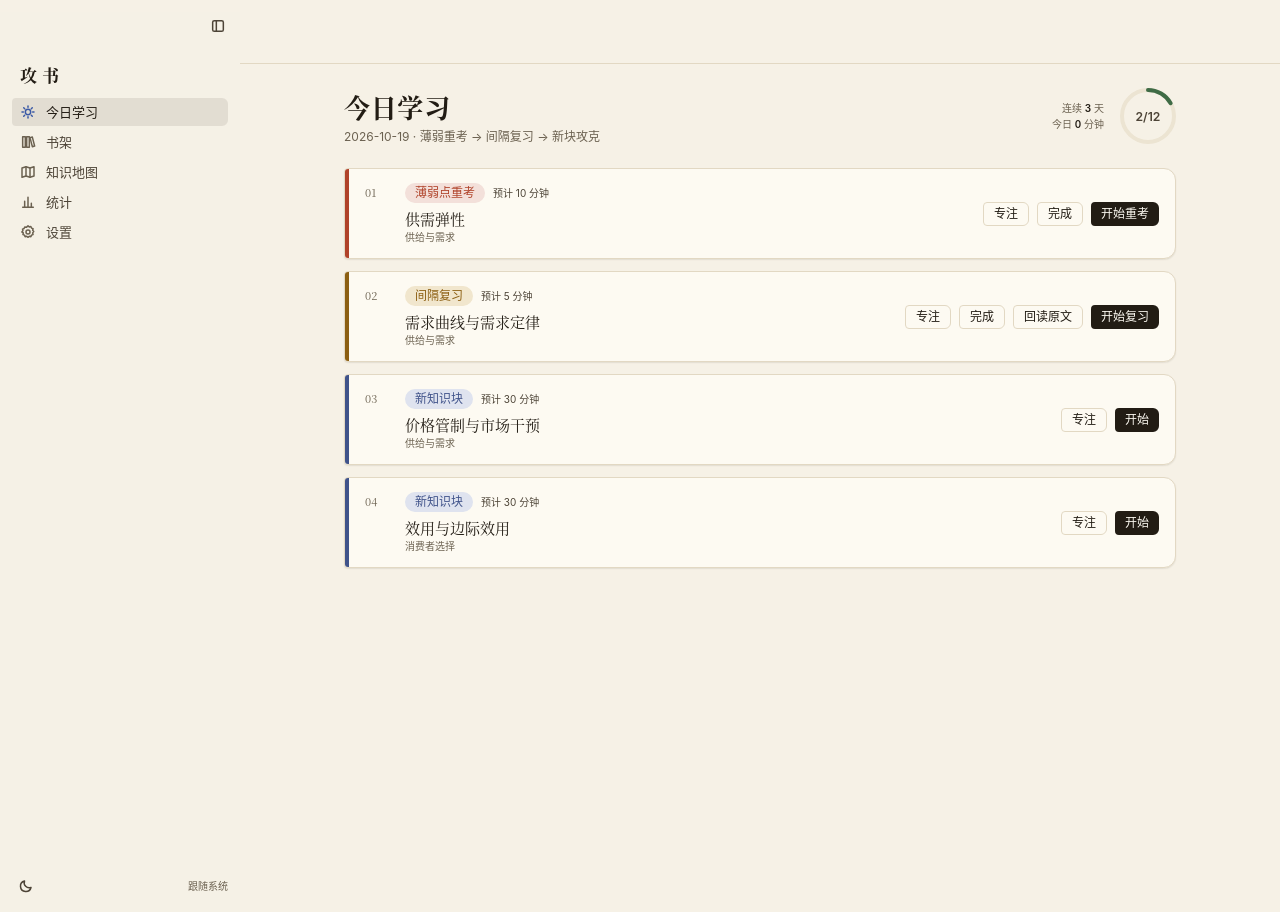
Test: App 外壳 › 点击"书架"进入书架页
Click the link "书架": (46, 142) [20, 134, 72, 150]
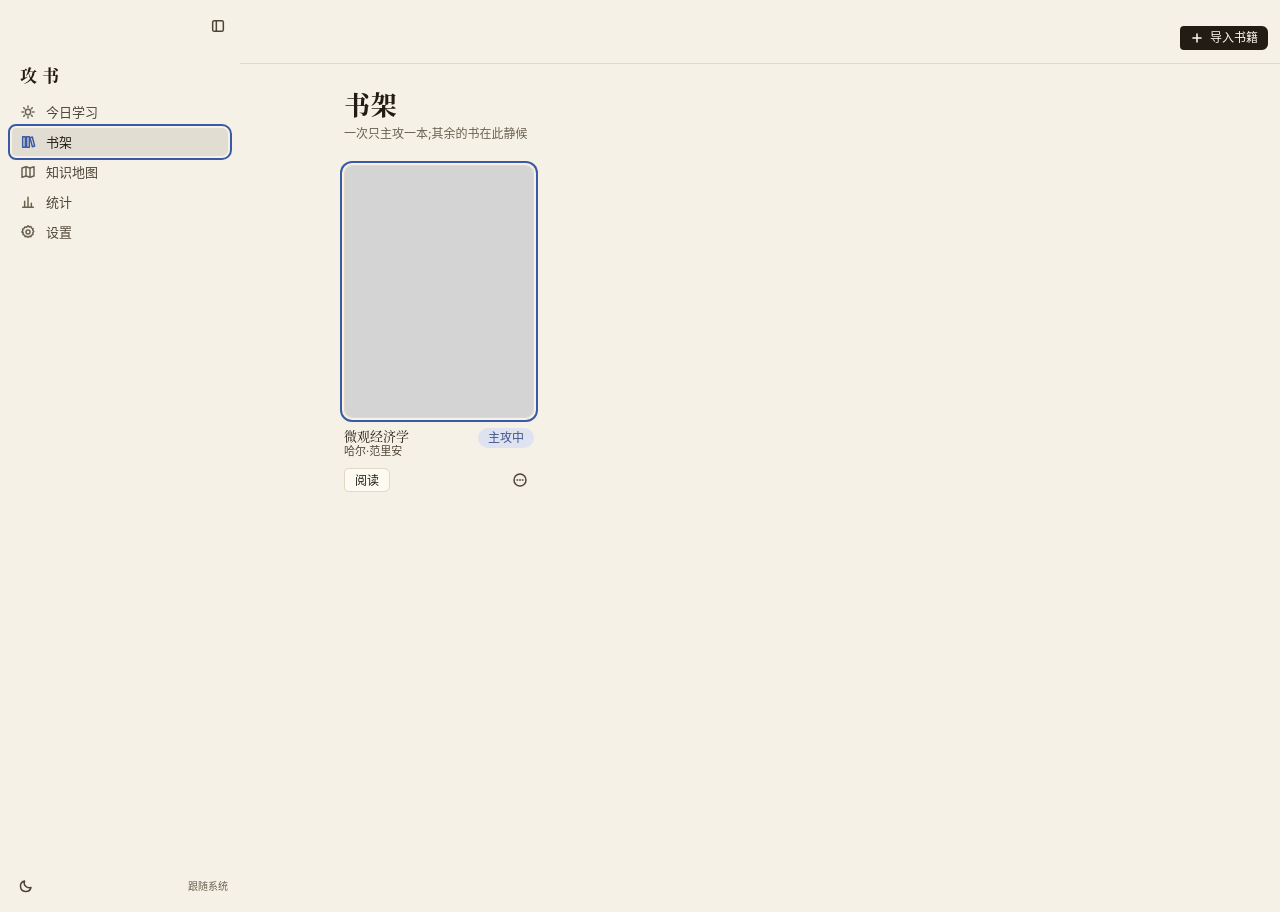
expect the heading "书架" is shown: met, box [344, 85, 397, 122]
